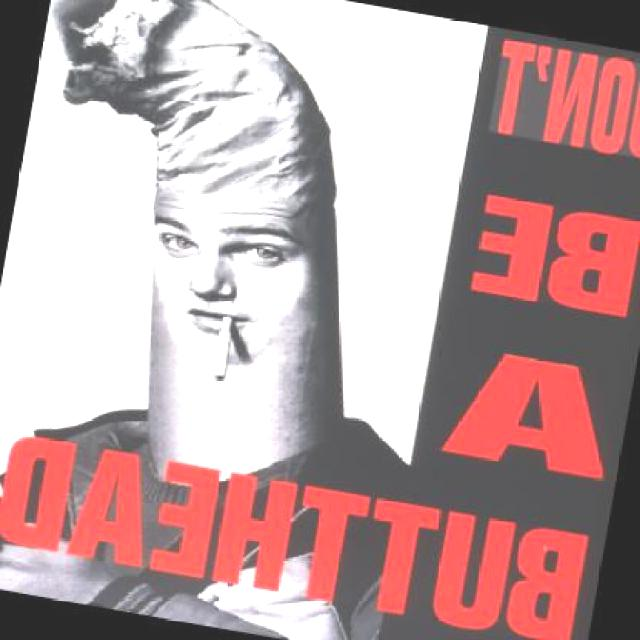cigarette: (211, 313, 240, 382)
